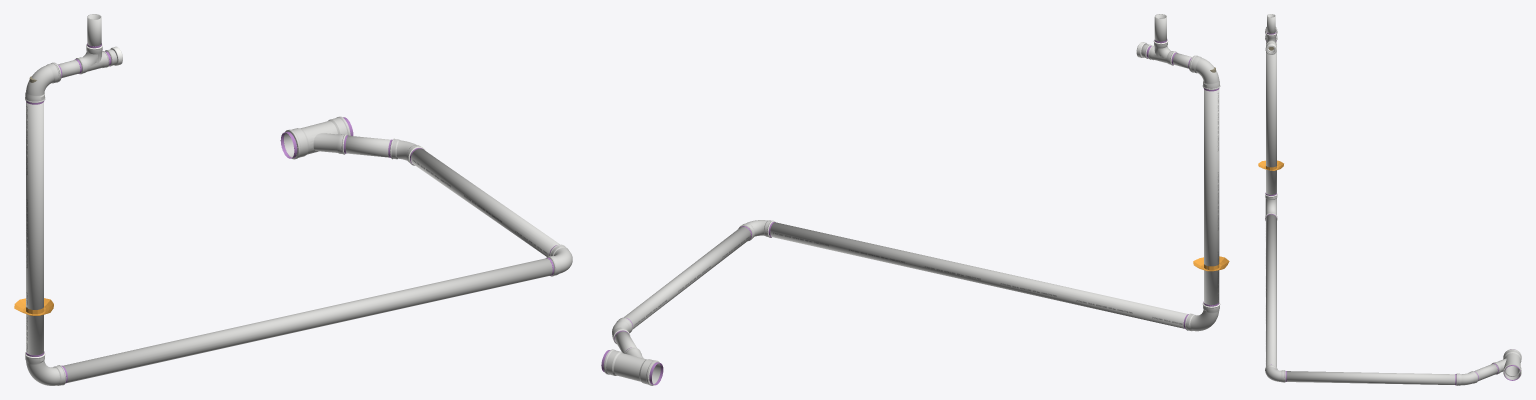
The model's file is pipes_dwv__kitchen_vent-aav.glb.
The picture shows the model from 3 angles, left to right: view 1: azimuth 30°, elevation 25°; view 2: azimuth 150°, elevation 25°; view 3: azimuth 270°, elevation 25°; orthographic projection. The views are drawn at different scales.
Parts seen in each view (by area): view 1: pipe_dwv_kitchen_aav, fit_wye_pipe_dwv_kitchen_aav, fit_elbow_pipe_dwv_kitchen_aav, fit_tee_vent_dwv_kitchen_aav, vent_dwv_kitchen_aav; view 2: pipe_dwv_kitchen_aav, fit_wye_pipe_dwv_kitchen_aav, fit_elbow_pipe_dwv_kitchen_aav; view 3: pipe_dwv_kitchen_aav, fit_wye_pipe_dwv_kitchen_aav.
Boxes of the visible parts, x1,y1,x2,y2 form: pipe_dwv_kitchen_aav: [25, 102, 572, 385]; fit_wye_pipe_dwv_kitchen_aav: [280, 116, 353, 159]; fit_elbow_pipe_dwv_kitchen_aav: [25, 62, 61, 104]; fit_tee_vent_dwv_kitchen_aav: [74, 43, 110, 74]; vent_dwv_kitchen_aav: [87, 14, 101, 46]; pipe_dwv_kitchen_aav: [612, 89, 1220, 353]; fit_wye_pipe_dwv_kitchen_aav: [601, 347, 663, 385]; fit_elbow_pipe_dwv_kitchen_aav: [1189, 55, 1220, 91]; pipe_dwv_kitchen_aav: [1265, 41, 1497, 385]; fit_wye_pipe_dwv_kitchen_aav: [1492, 349, 1521, 380].
Size of the model in its own units: 2.16 by 1.4 by 1.44.
